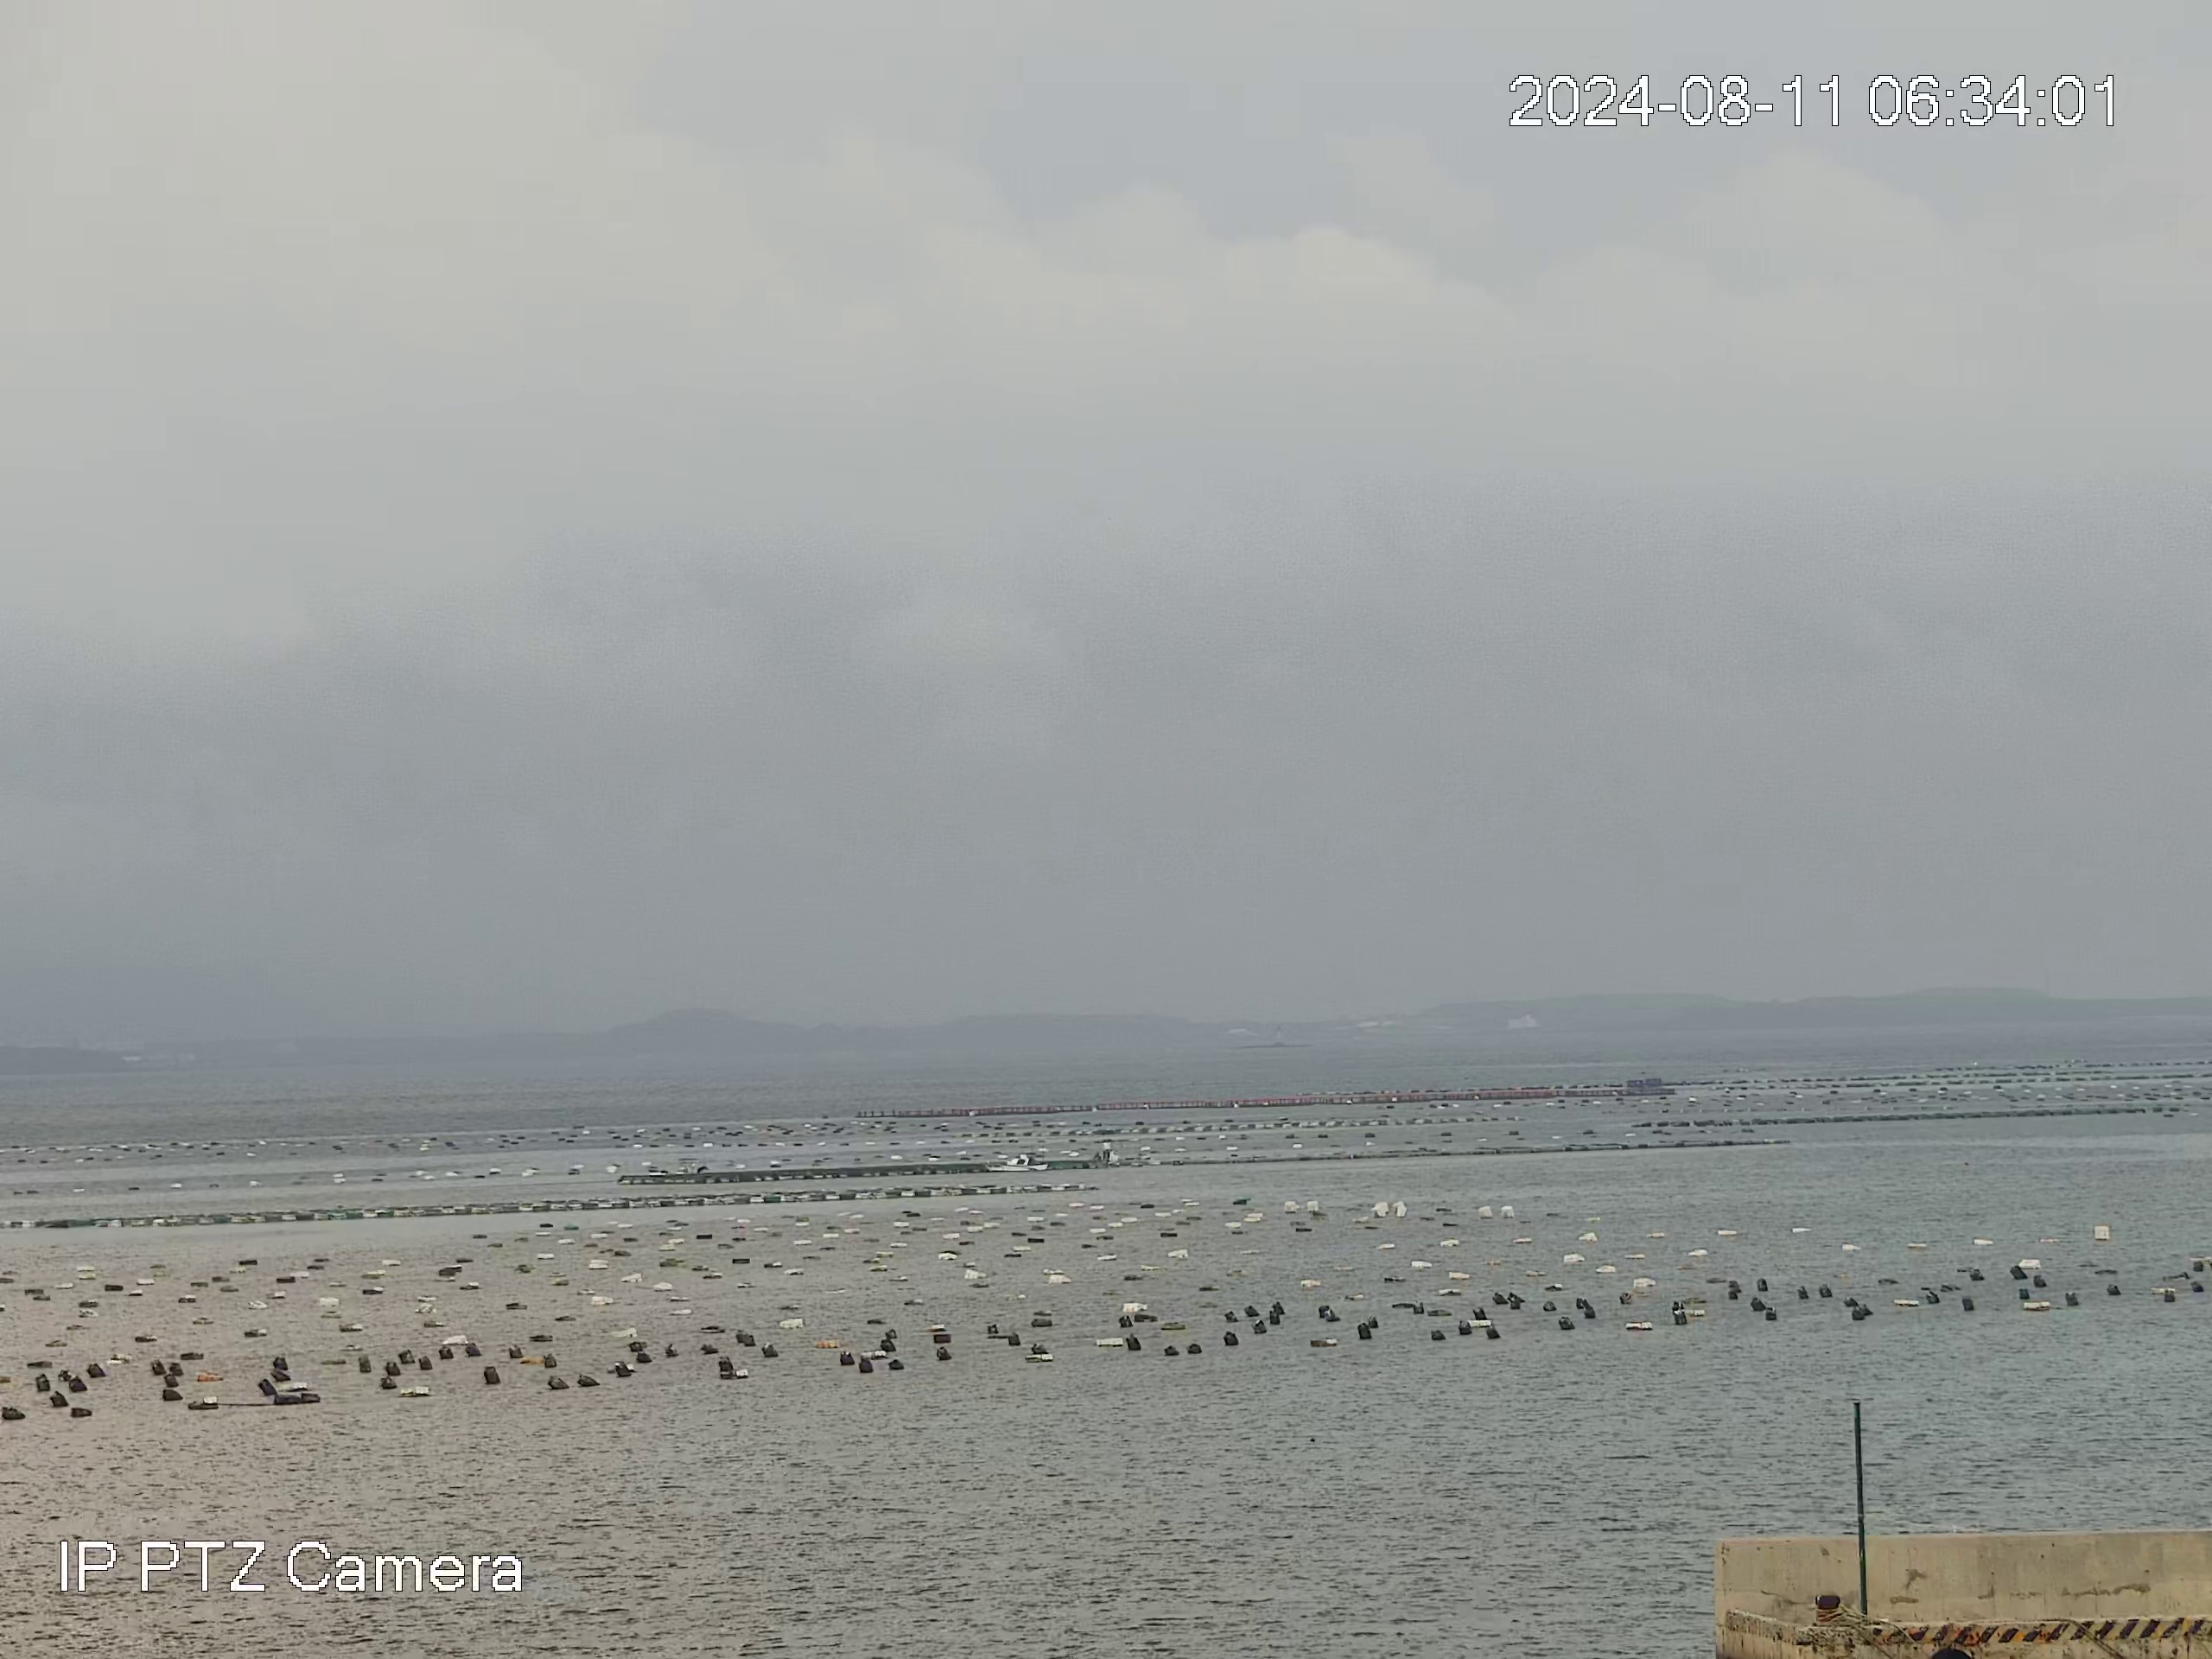boat: (984, 1150, 1050, 1173)
